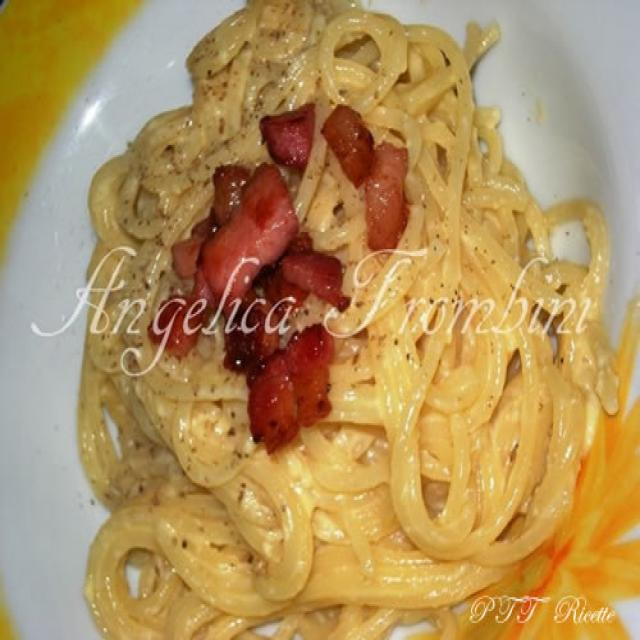Pasta with carbonara sauce: (78, 3, 624, 639)
